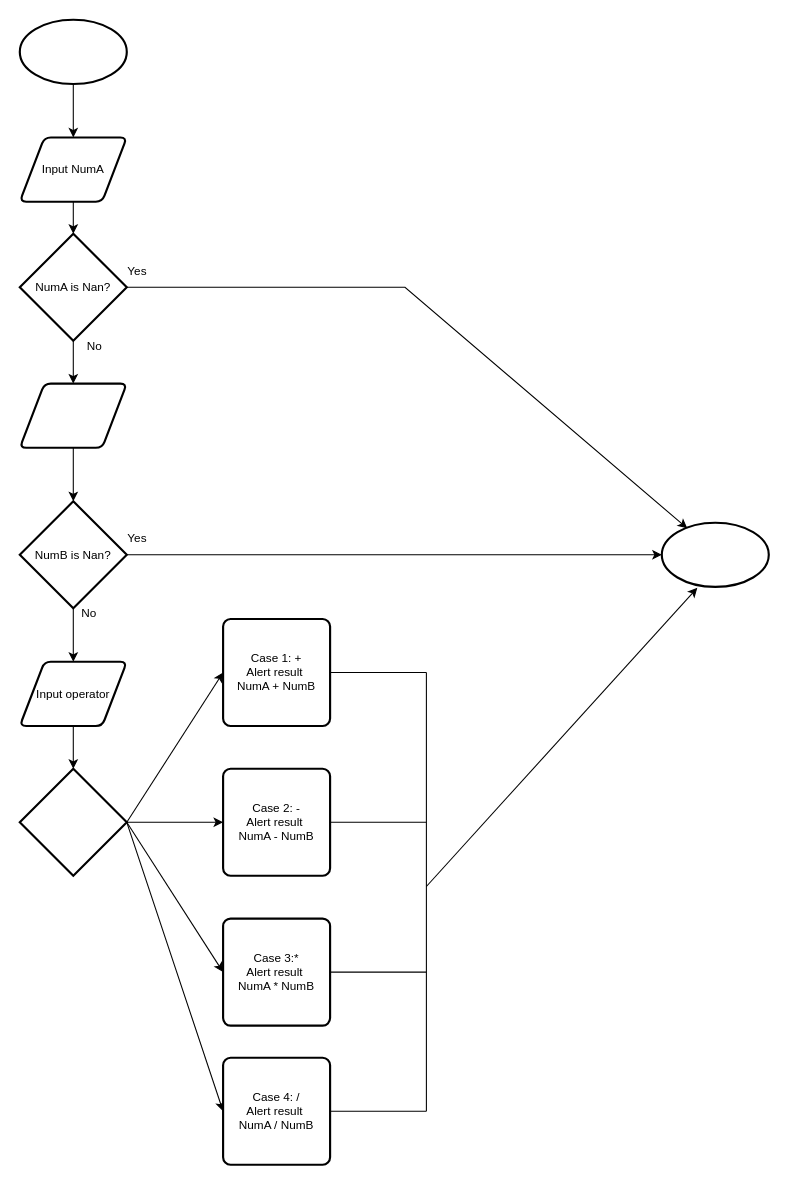
Some shapes in this 788 by 1183 pixel diagram are drawn without their labels. Here are the shapes that lost their labels. From the top down, the centre of each, then its label:
point (72, 51): Start
point (72, 415): Input NumB
point (714, 554): End
point (72, 821): Switch case
